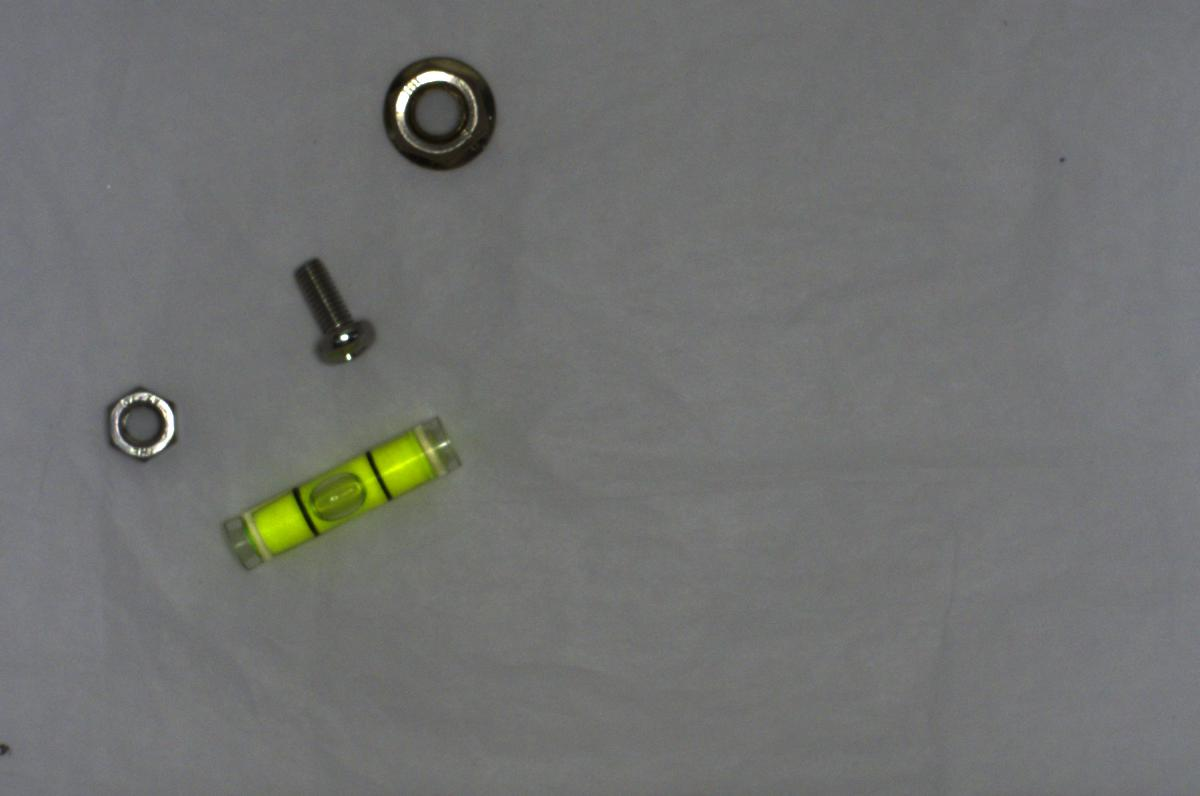Flange nut: (381, 52, 499, 170)
Hexagon nut: (93, 376, 197, 468)
Horizontal bubble: (220, 409, 465, 573)
Round head screw: (285, 247, 386, 369)
